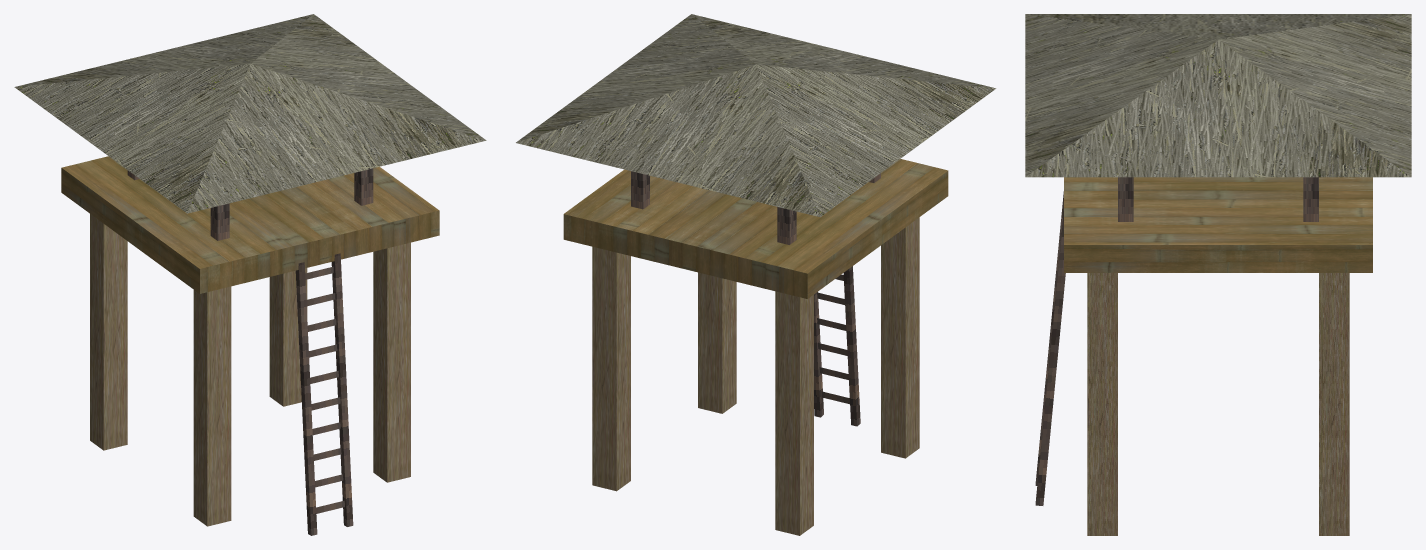
The model's file is Atalaia.gltf.
3 views of the same model, side by side, from view 1: azimuth 30°, elevation 25°; view 2: azimuth 150°, elevation 25°; view 3: azimuth 270°, elevation 25° (orthographic). The views are drawn at different scales.
Visible parts, largest first — view 1: telhado, pernas, mesh, escada, hastes; view 2: telhado, pernas, mesh, escada, hastes; view 3: telhado, mesh, pernas, escada, hastes.
Boxes of the visible parts, x1,y1,x2,y2 form: telhado: (14,14,486,213); pernas: (90,214,410,526); mesh: (61,156,439,293); escada: (295,253,353,535); hastes: (127,168,373,240); telhado: (516,14,996,217); pernas: (592,217,919,535); mesh: (563,159,948,298); escada: (814,266,860,426); hastes: (631,171,880,244); telhado: (1025,14,1411,177); mesh: (1064,177,1372,272); pernas: (1087,273,1349,535); escada: (1035,191,1065,505); hastes: (1118,177,1318,221).
Bounding box in the file's own units: 3.12 × 4.06 × 3.12.
4 materials, 4 textured.
